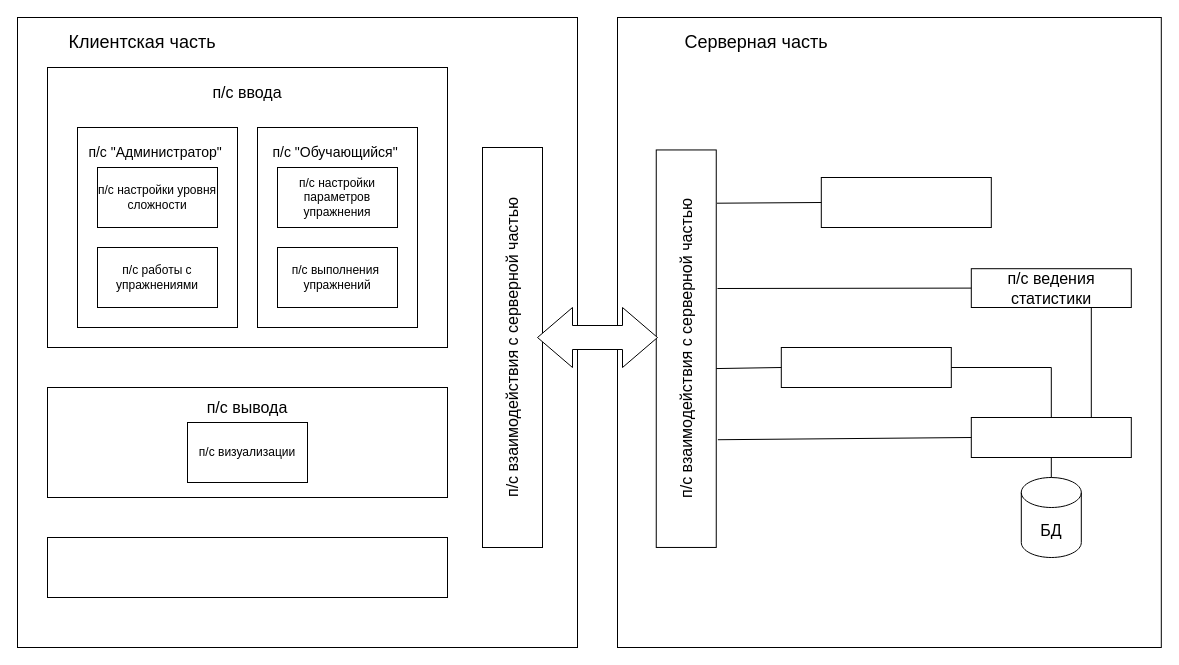
This 1179x665 diagram has some shape labels left out. The shapes that lost their labels are listed below. From the top down, each one's centre as x and y in pixels, then its label:
At (905,202): "п/с генерации упражнения".
At (597,337): "HTTP".
At (865,367): "п/с аутенфикации".
At (1050,437): "п/с взаимодействия с БД".
At (247,567): "справочная п/с".
